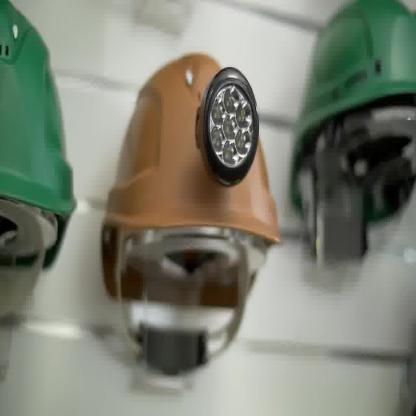helmet: (101, 51, 283, 311), (286, 0, 416, 265), (289, 0, 415, 229), (0, 0, 77, 323)
